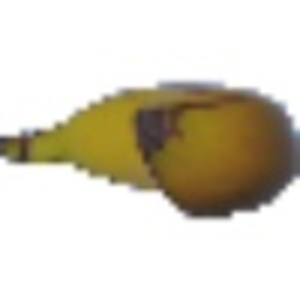banana: (1, 70, 297, 218)
